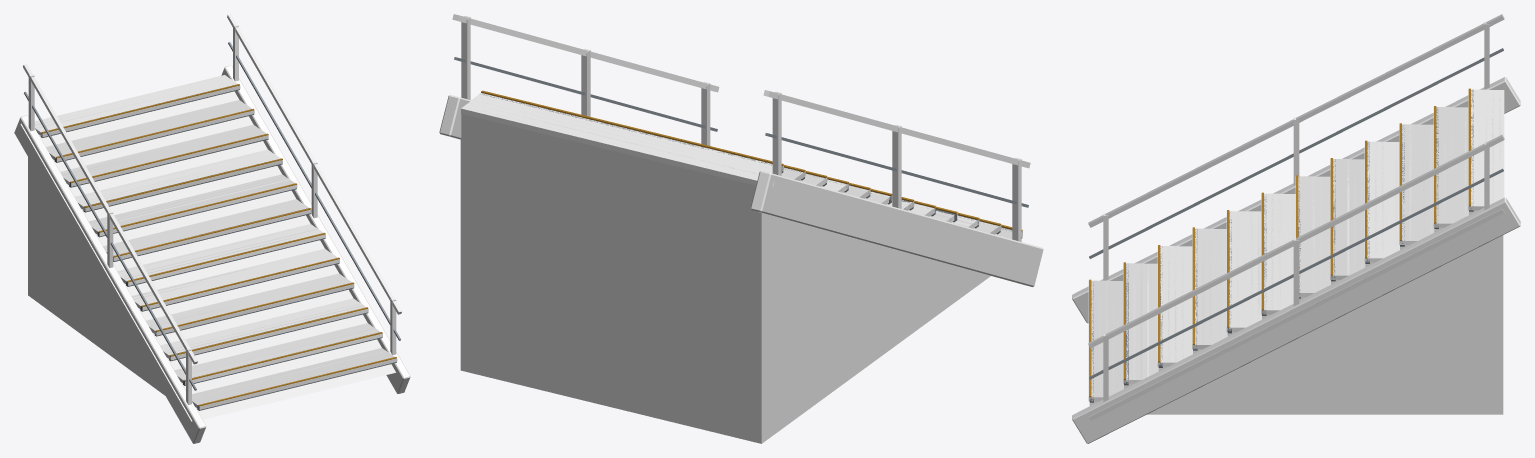
The model's file is Stairs_Wide.fbx.
3 renders of one model, left to right at view 1: azimuth 30°, elevation 25°; view 2: azimuth 150°, elevation 25°; view 3: azimuth 270°, elevation 25°, orthographic. The views are drawn at different scales.
Visible parts, largest first — view 1: Stairs_Wide, Stairs_Wide_COL_Ramp; view 2: Stairs_Wide_COL_Ramp, Stairs_Wide; view 3: Stairs_Wide, Stairs_Wide_COL_Ramp.
Part boxes in pixels (<box>): Stairs_Wide: <box>14,14,410,443</box>; Stairs_Wide_COL_Ramp: <box>28,91,395,419</box>; Stairs_Wide_COL_Ramp: <box>460,114,990,443</box>; Stairs_Wide: <box>439,14,1043,286</box>; Stairs_Wide: <box>1072,14,1520,443</box>; Stairs_Wide_COL_Ramp: <box>1089,210,1503,414</box>.
Size of the model in its own units: 3.9 by 4.42 by 5.85.
